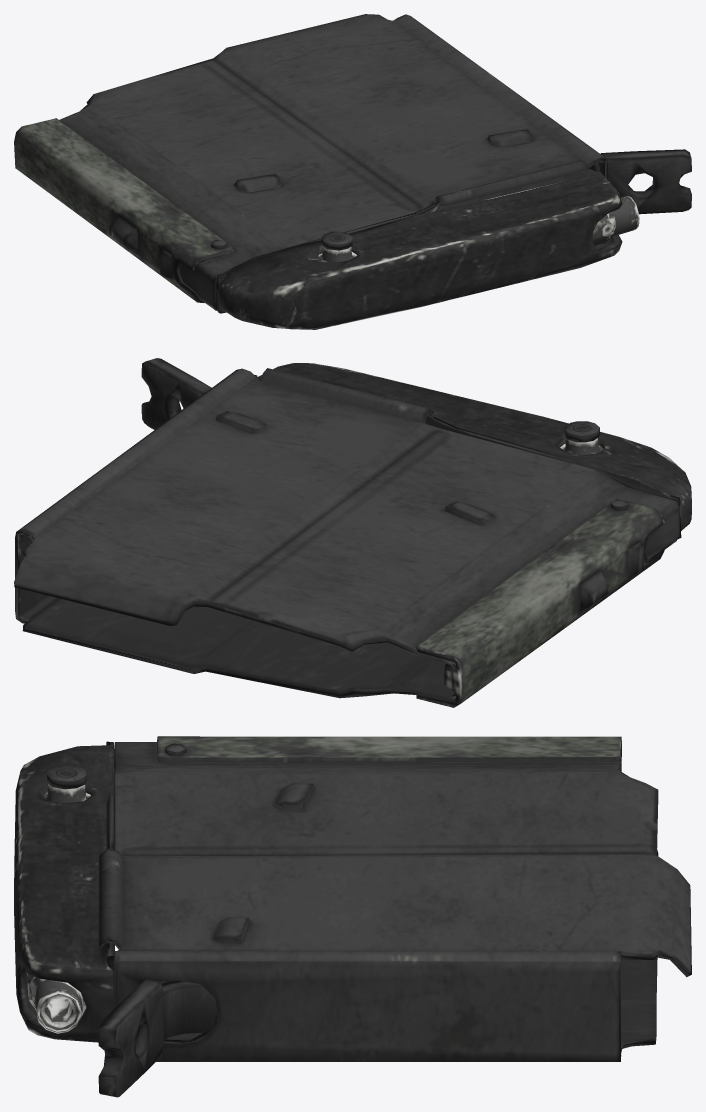
File: MagMosinNagantExtSm_Ground.fbx
The picture shows the model from 3 angles, top to bottom: view 1: azimuth 30°, elevation 25°; view 2: azimuth 150°, elevation 25°; view 3: azimuth 270°, elevation 25°; orthographic projection. The views are drawn at different scales.
Parts seen in each view (by area): view 1: MagMosinNagantExtSm; view 2: MagMosinNagantExtSm; view 3: MagMosinNagantExtSm.
Part boxes in pixels (x1,y1,x2,y2): MagMosinNagantExtSm: (14,14,691,329); MagMosinNagantExtSm: (14,358,691,707); MagMosinNagantExtSm: (14,736,691,1097).
Bounding box in the file's own units: 0.0735 × 0.0128 × 0.0682.
